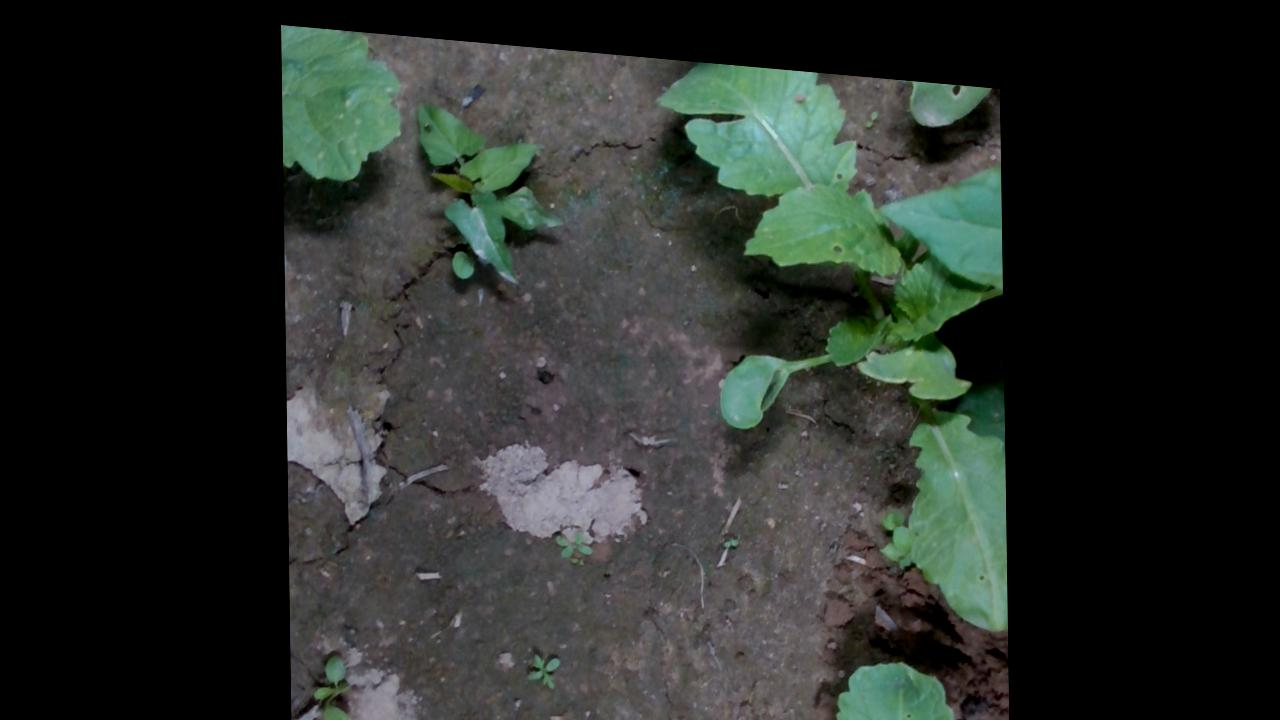weed: (554, 515, 594, 551), (524, 640, 560, 679)
